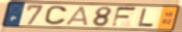7: (25, 4, 46, 26)
8: (91, 6, 113, 27)
A: (65, 5, 90, 26)
C: (43, 5, 69, 26)
F: (110, 6, 139, 28)
L: (136, 8, 155, 28)
